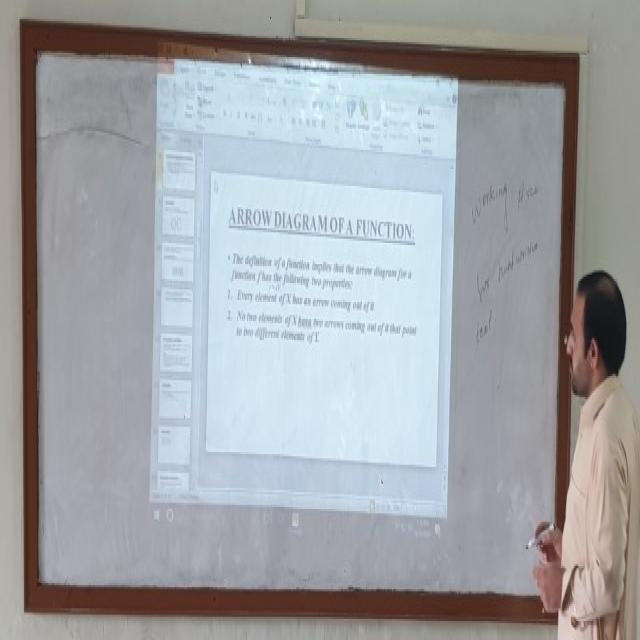Instructor: (552, 264, 636, 640)
Slide: (146, 35, 460, 545)
White-board: (26, 28, 573, 609)
